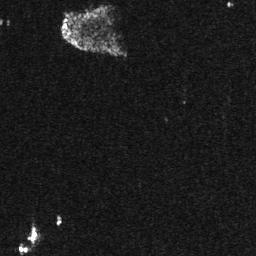ship: (28, 226, 38, 243), (18, 245, 30, 254)
